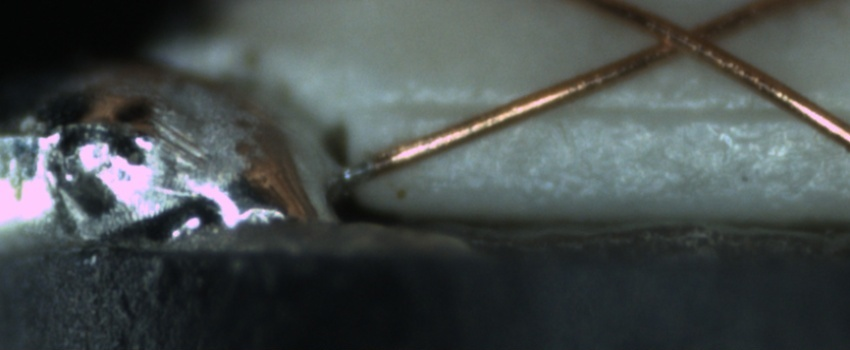CL: (638, 4, 740, 67)
DL: (368, 78, 850, 140)
TS: (340, 158, 377, 185)
